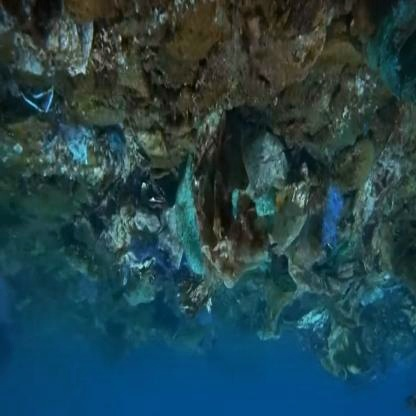plastic: (77, 124, 298, 329)
